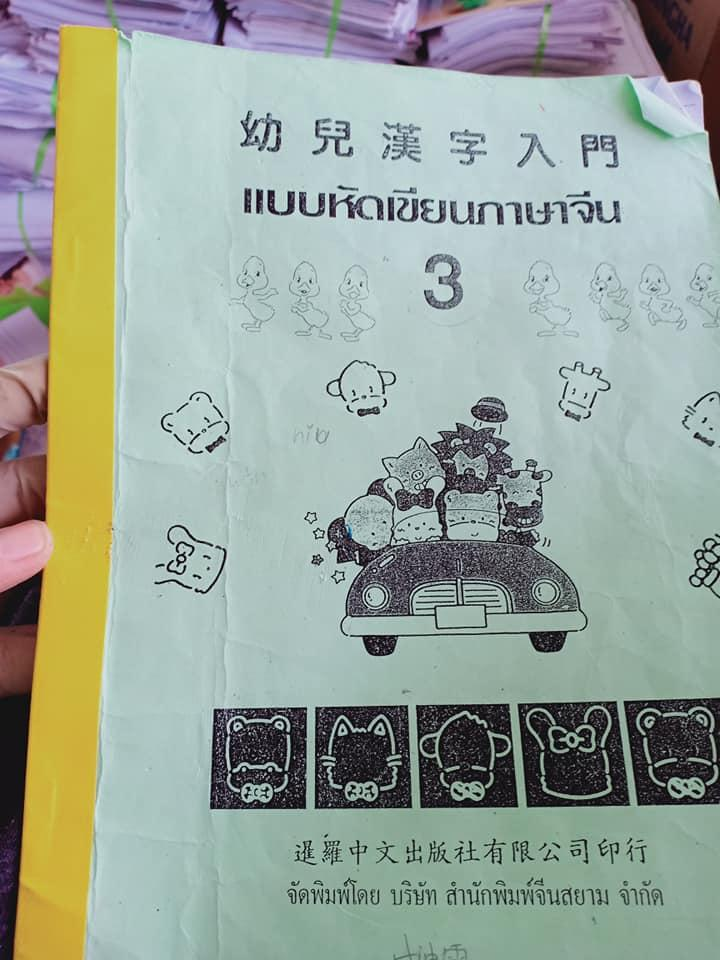paper: (16, 5, 719, 959)
